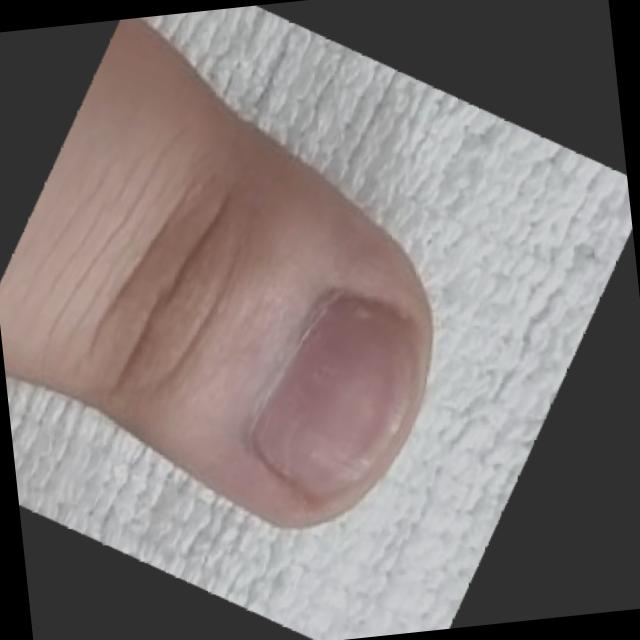Nail: (254, 301, 421, 502)
